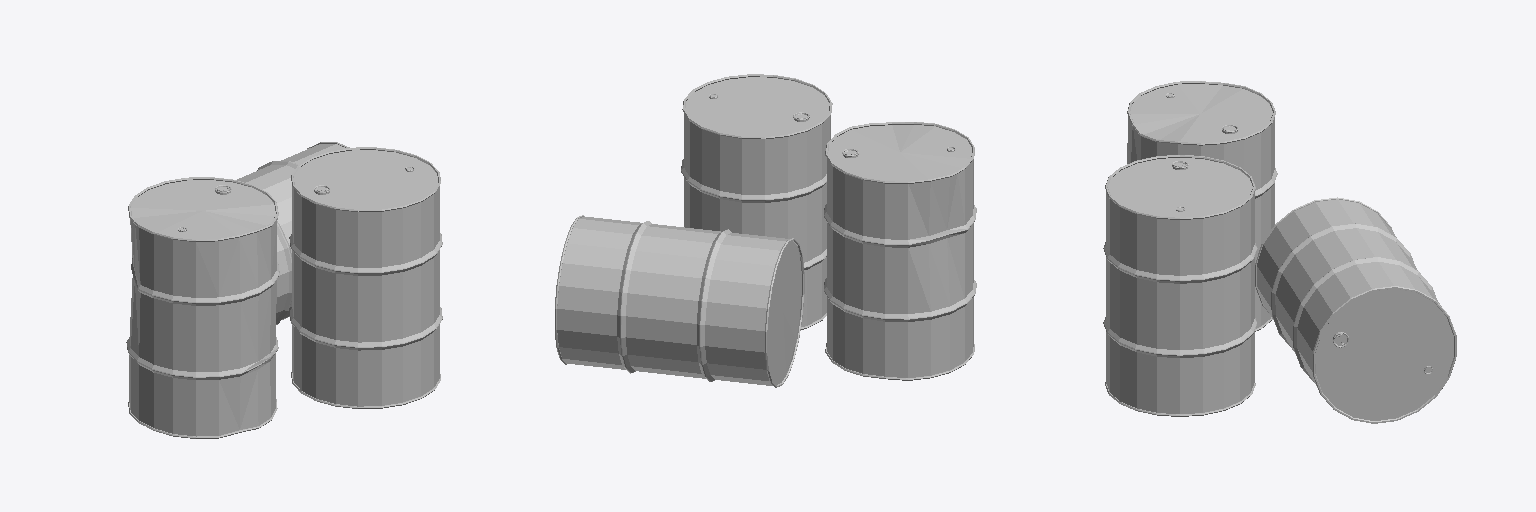
The model's file is oil_drums.obj.
3 views of the same model, side by side, from view 1: azimuth 30°, elevation 25°; view 2: azimuth 150°, elevation 25°; view 3: azimuth 270°, elevation 25° (orthographic).
Visible parts, largest first — view 1: Red_Drum_low_Mat_Oil_Drum_Red_0, Damaged_Drum_low_Mat_Oil_Drum_Damaged_0, Blue_Drum_low_Mat_Oil_Drum_Blue_0; view 2: Damaged_Drum_low_Mat_Oil_Drum_Damaged_0, Blue_Drum_low_Mat_Oil_Drum_Blue_0, Red_Drum_low_Mat_Oil_Drum_Red_0; view 3: Red_Drum_low_Mat_Oil_Drum_Red_0, Blue_Drum_low_Mat_Oil_Drum_Blue_0, Damaged_Drum_low_Mat_Oil_Drum_Damaged_0.
Part boxes in pixels (x1,y1,x2,y2): Red_Drum_low_Mat_Oil_Drum_Red_0: (289,147,442,408); Damaged_Drum_low_Mat_Oil_Drum_Damaged_0: (126,177,279,438); Blue_Drum_low_Mat_Oil_Drum_Blue_0: (237,142,349,324); Damaged_Drum_low_Mat_Oil_Drum_Damaged_0: (824,122,976,380); Blue_Drum_low_Mat_Oil_Drum_Blue_0: (555,215,804,387); Red_Drum_low_Mat_Oil_Drum_Red_0: (681,74,832,329); Red_Drum_low_Mat_Oil_Drum_Red_0: (1103,155,1257,416); Blue_Drum_low_Mat_Oil_Drum_Blue_0: (1255,197,1456,423); Damaged_Drum_low_Mat_Oil_Drum_Damaged_0: (1127,81,1277,331).
Bounding box in the file's own units: 1.81 × 1.08 × 1.73.